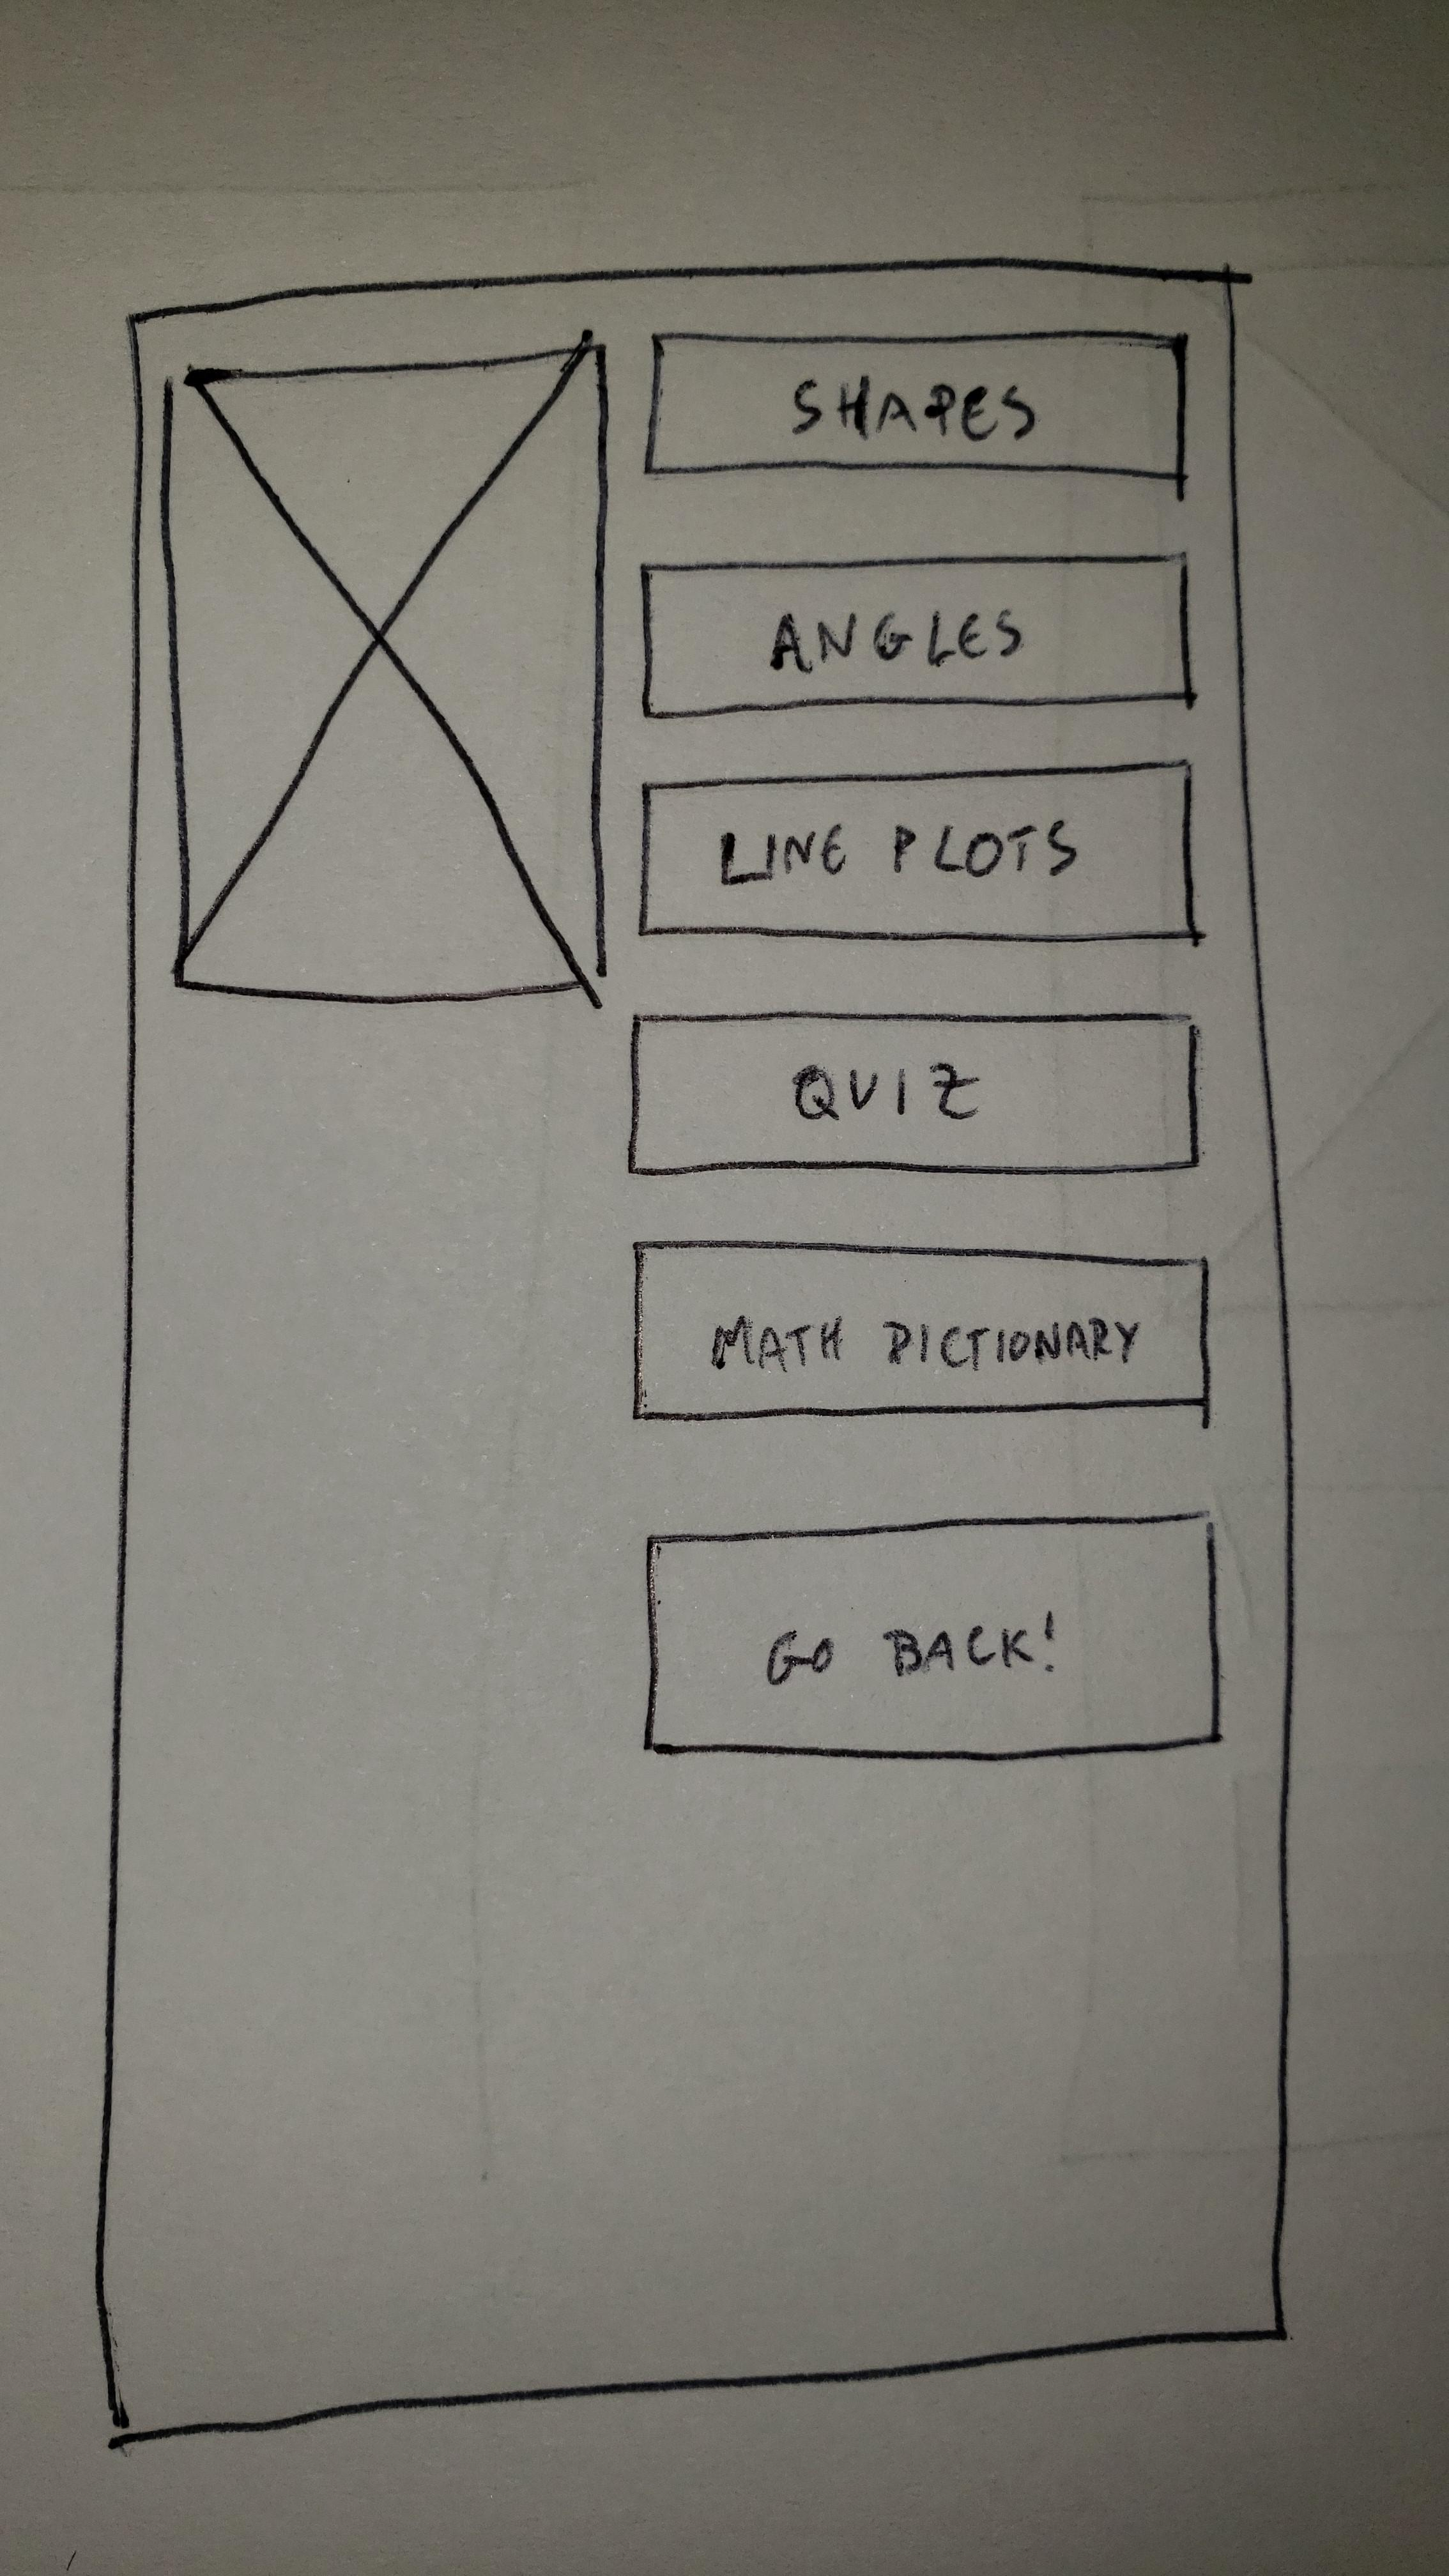Button: (642, 1511, 1221, 1759), (633, 1238, 1212, 1422), (639, 761, 1194, 938), (640, 550, 1192, 718), (628, 1012, 1198, 1175), (642, 333, 1187, 478)
Image: (163, 340, 610, 1003)
Screen: (97, 258, 1297, 2449)
